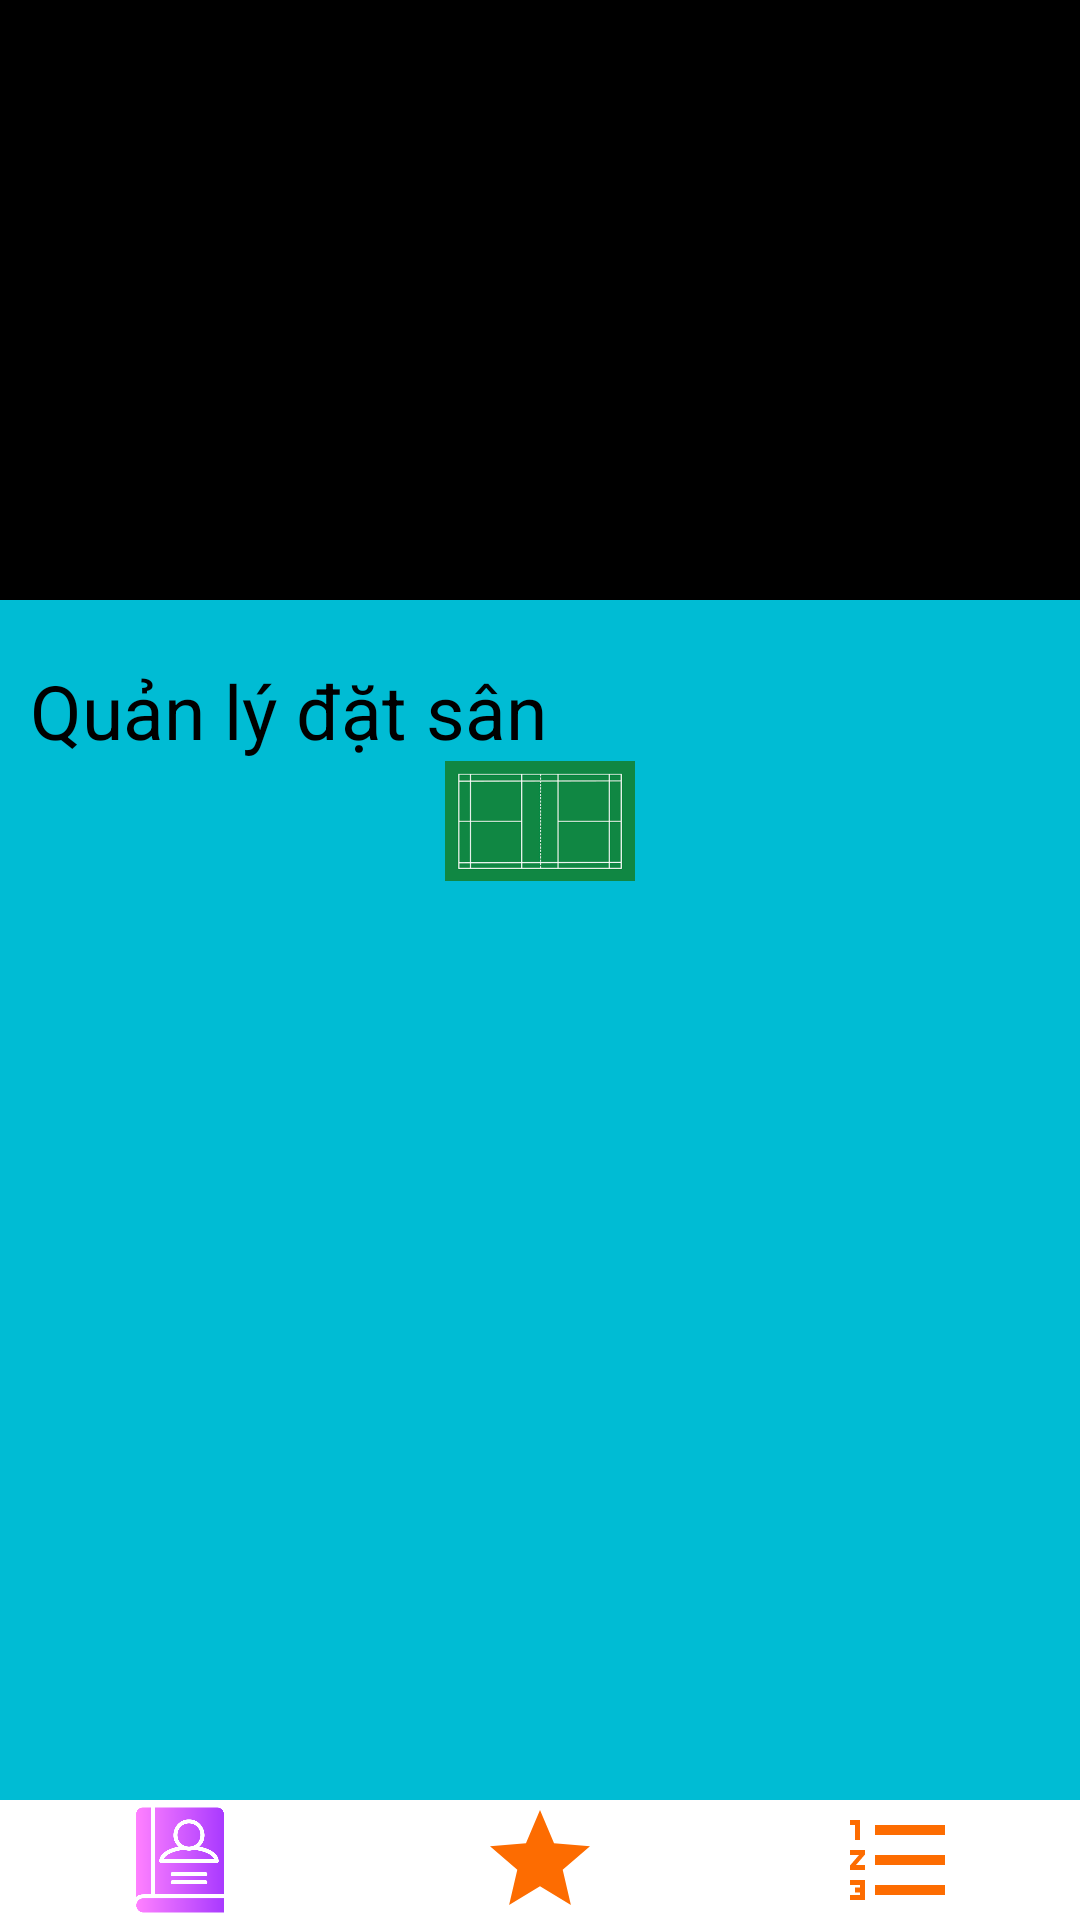

Locate icon controls on the screen. Image size 1080w x 1920h, boxes as region(x1, y1, x2, y2).
imgsan: region(445, 761, 635, 881)
star: region(490, 1810, 590, 1905)
